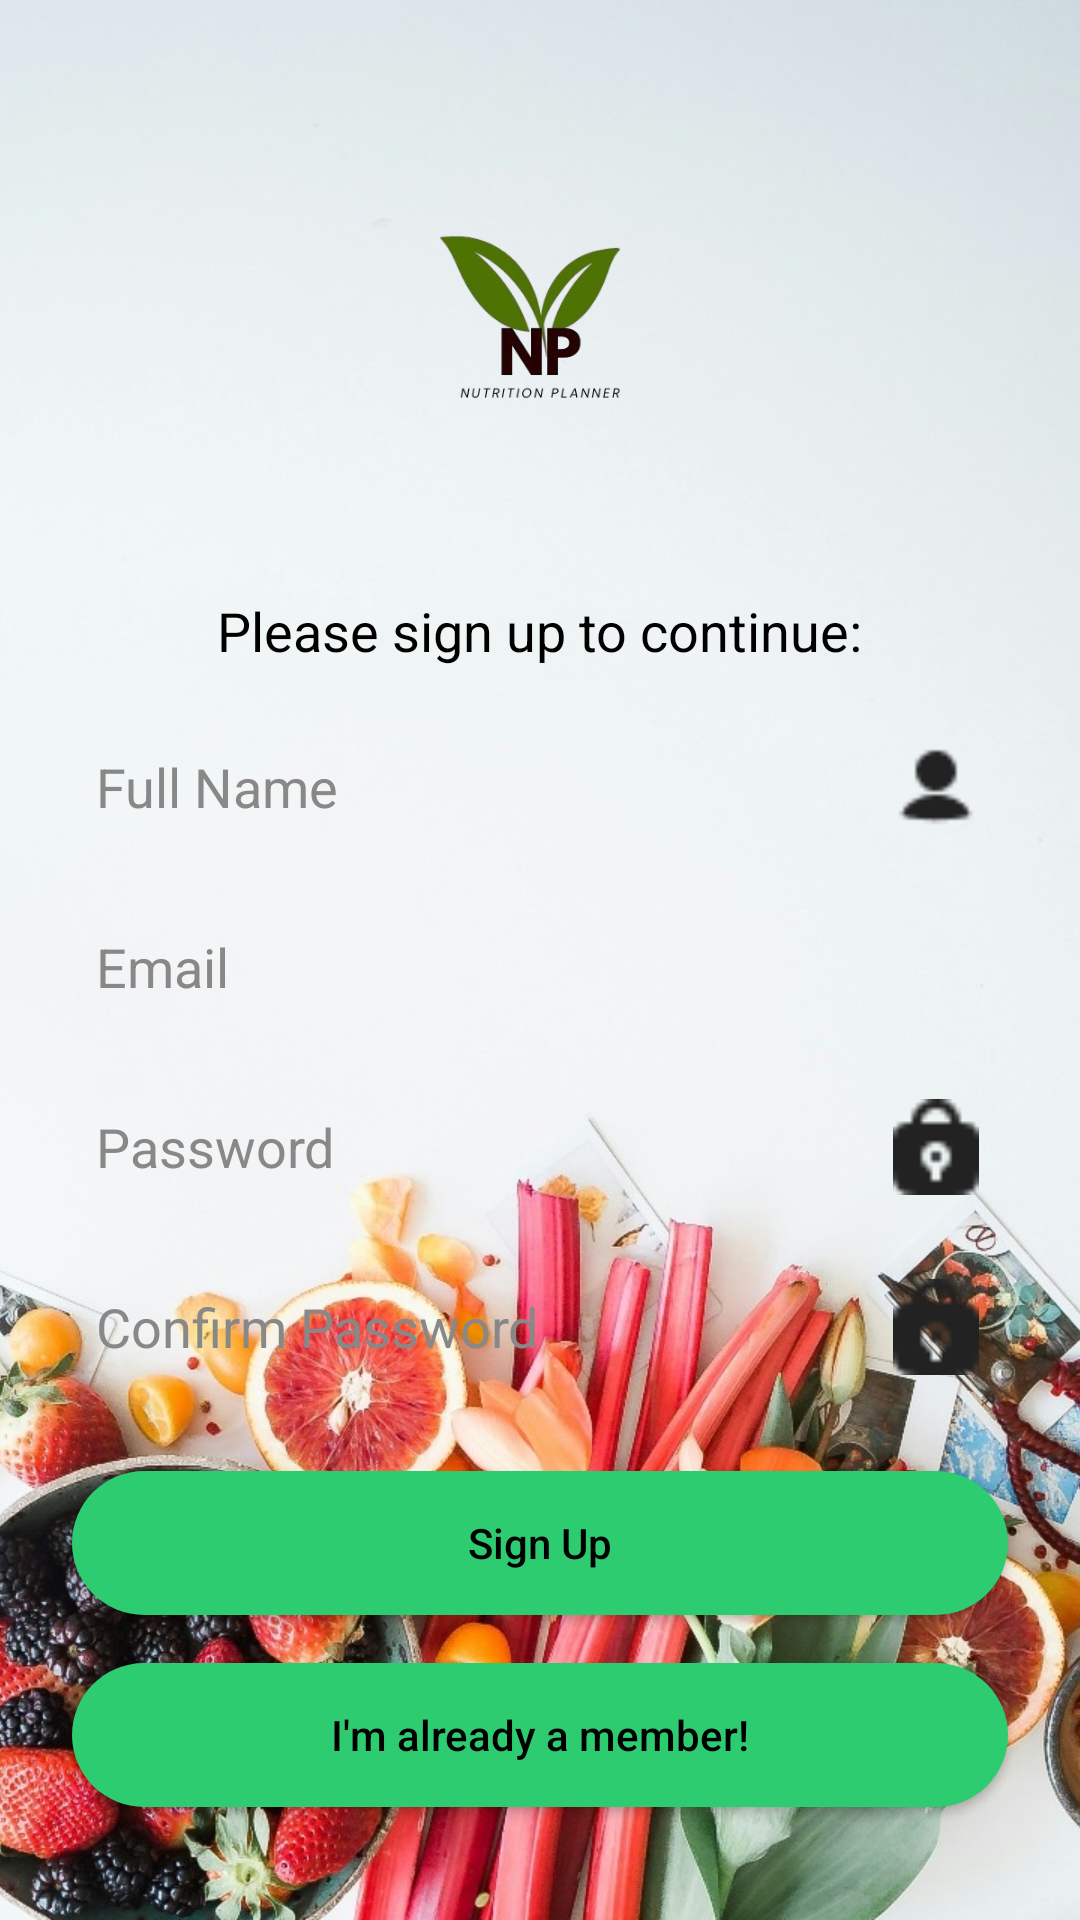

Named icons in this screenshot (1080px×1920px) and their bounding boxes, [left=x1, top=y1, right=x2, bottom=y2]:
userfill: [left=900, top=749, right=972, bottom=823]
